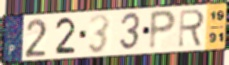2: (25, 17, 49, 59), (54, 16, 77, 56)
3: (87, 12, 114, 55), (117, 11, 142, 54)
P: (147, 8, 179, 52)
R: (176, 8, 206, 50)
